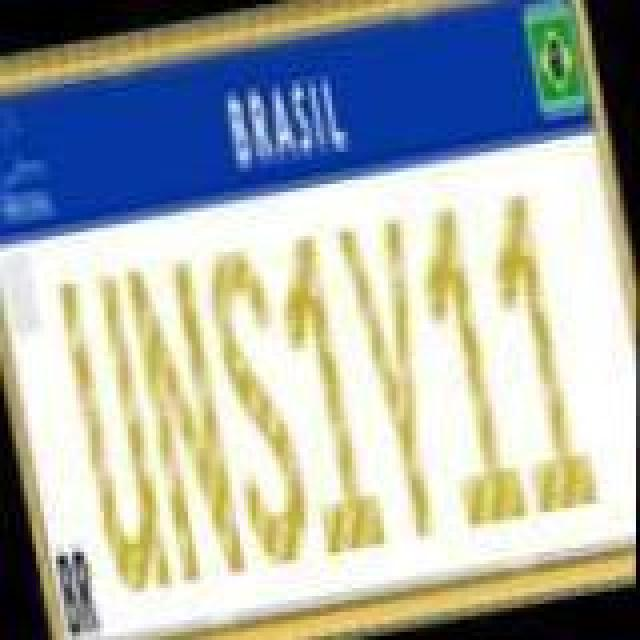1: (404, 190, 536, 534), (264, 222, 392, 562), (480, 182, 604, 522)
N: (116, 248, 252, 596)
S: (194, 232, 318, 572)
U: (54, 266, 178, 606)
Y: (332, 202, 464, 546)
